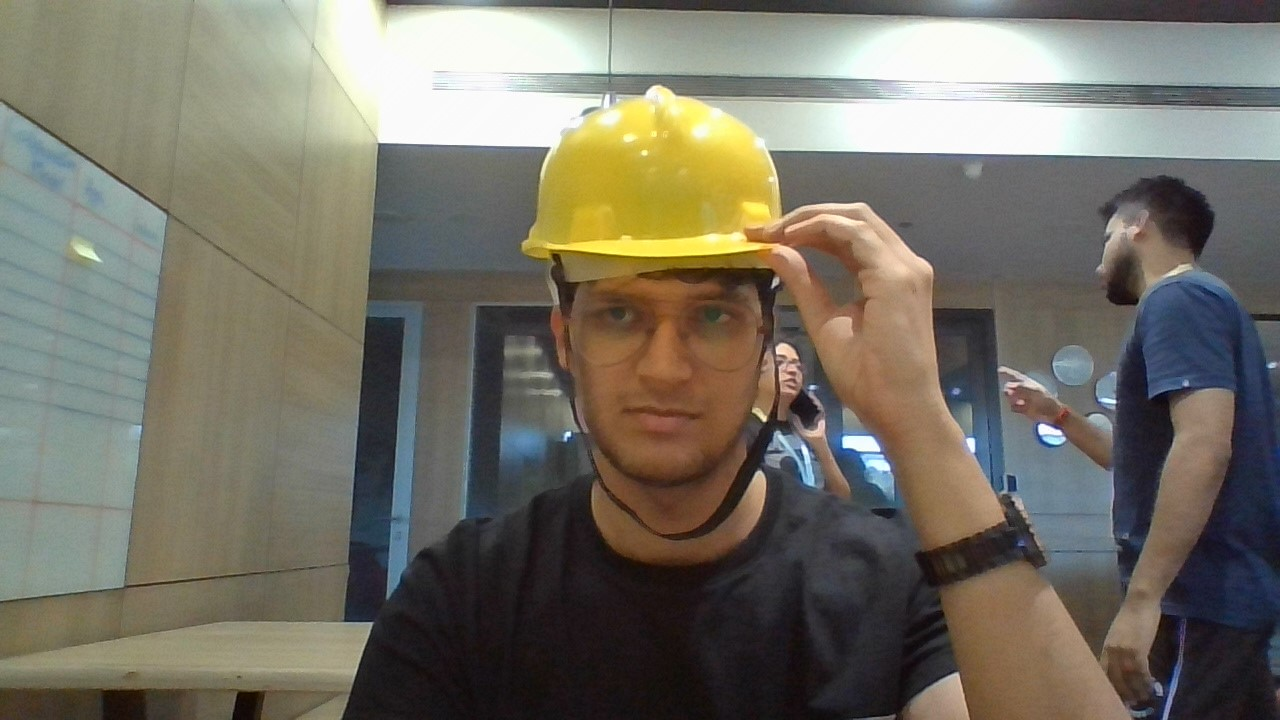Person_wearing_helmet: (500, 56, 835, 355)
